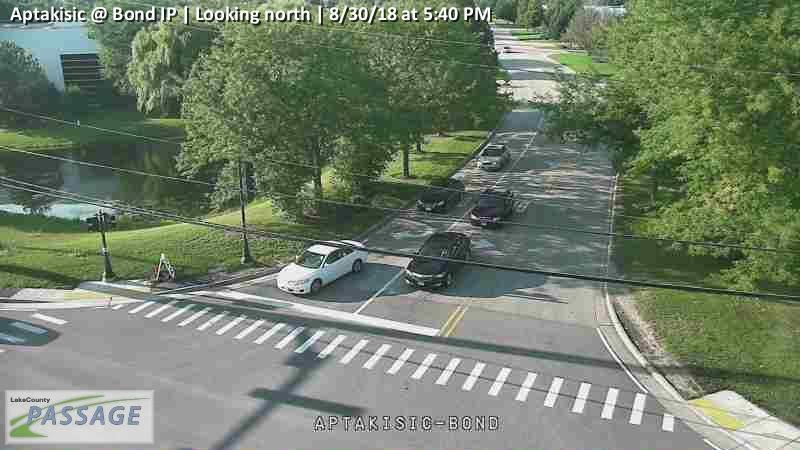Sedan: (276, 239, 367, 295), (406, 233, 473, 291), (416, 176, 465, 214), (470, 190, 514, 228), (479, 144, 513, 172)
